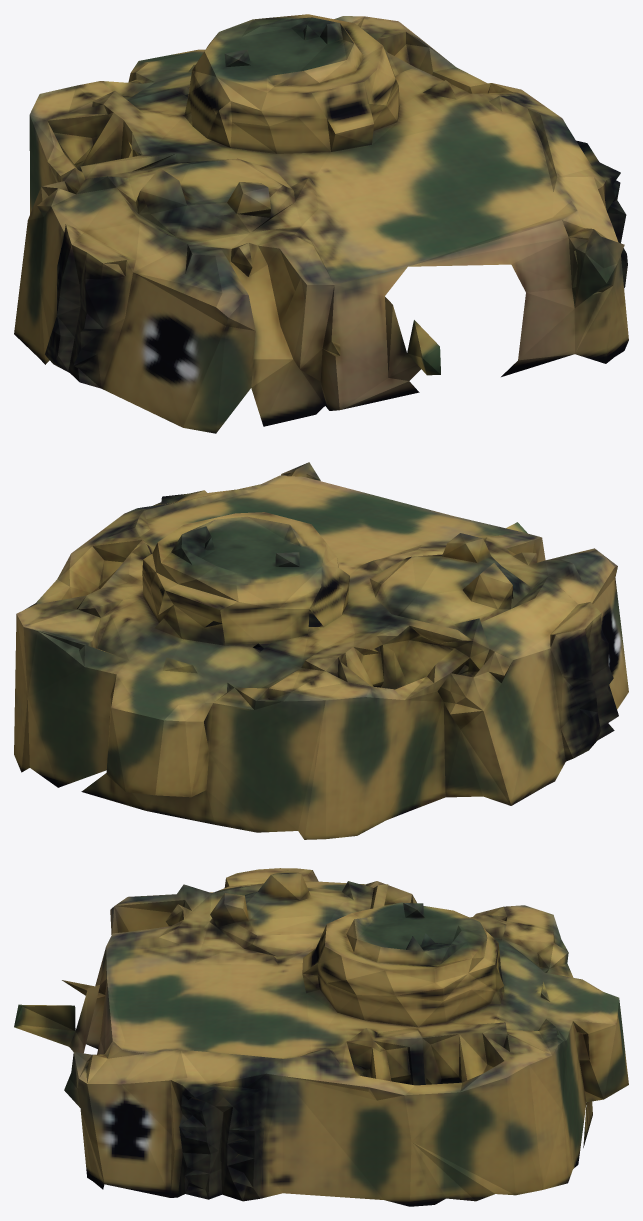
The model's file is pz4_turret.obj.
3 renders of one model, top to bottom at view 1: azimuth 30°, elevation 25°; view 2: azimuth 150°, elevation 25°; view 3: azimuth 270°, elevation 25°, orthographic. The views are drawn at different scales.
Visible parts, largest first — view 1: pz4_turret; view 2: pz4_turret; view 3: pz4_turret.
Boxes of the visible parts, x1,y1,x2,y2 form: pz4_turret: (14, 14, 628, 433); pz4_turret: (14, 462, 628, 839); pz4_turret: (14, 868, 628, 1206).
Bounding box in the file's own units: 2.69 × 1.11 × 3.06.
Materials: 1 (1 with a texture image).
